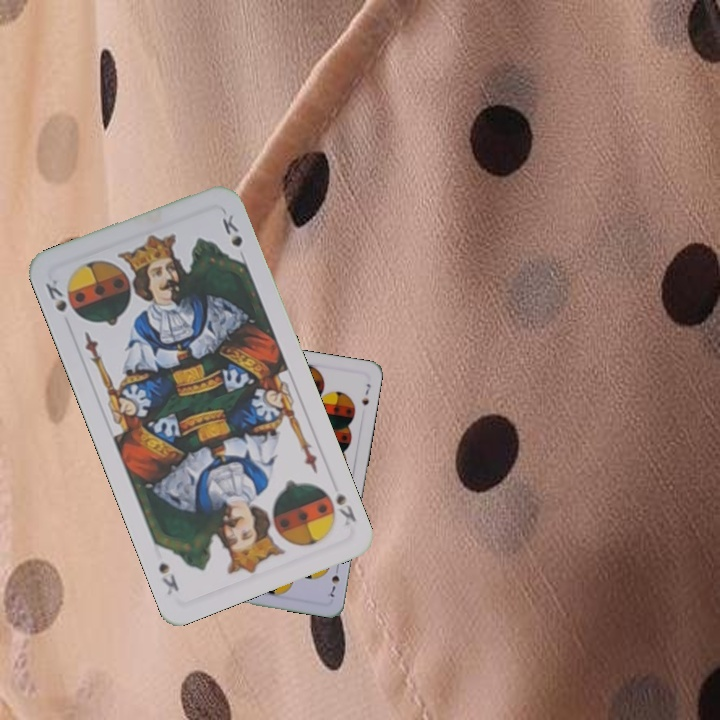S7: (326, 561, 342, 600)
SK: (331, 487, 359, 530), (41, 275, 70, 315)
